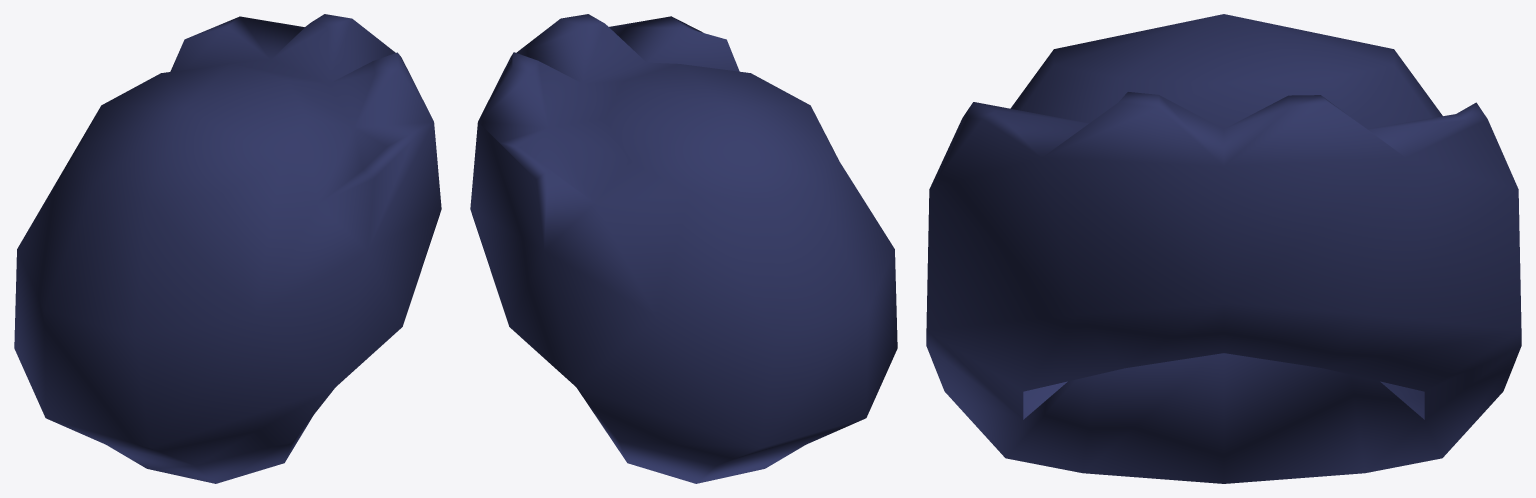
The model's file is TherapyAttachmentHead07.fbx.
The picture shows the model from 3 angles, left to right: view 1: azimuth 30°, elevation 25°; view 2: azimuth 150°, elevation 25°; view 3: azimuth 270°, elevation 25°; orthographic projection. The views are drawn at different scales.
Parts seen in each view (by area): view 1: pSphere7; view 2: pSphere7; view 3: pSphere7.
Boxes of the visible parts, x1,y1,x2,y2 form: pSphere7: (14,14,441,483); pSphere7: (470,14,897,483); pSphere7: (926,14,1521,483).
Bounding box in the file's own units: 144 × 144 × 146.
